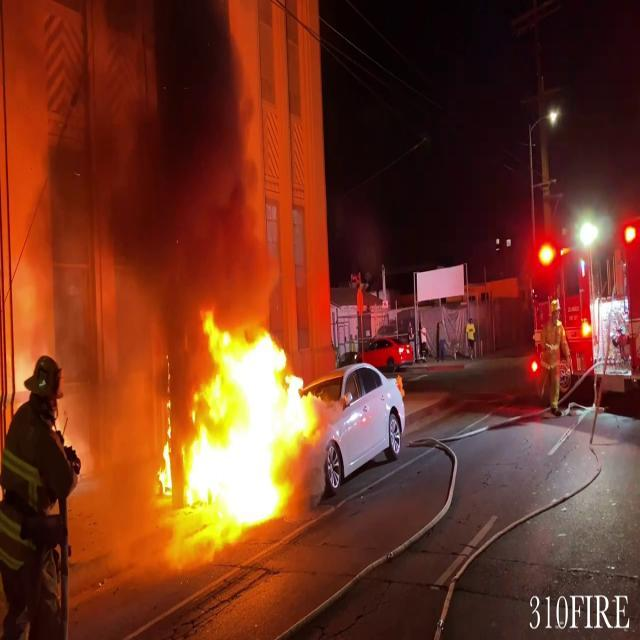Fire: (159, 306, 317, 542)
Smoke: (0, 0, 285, 316)
